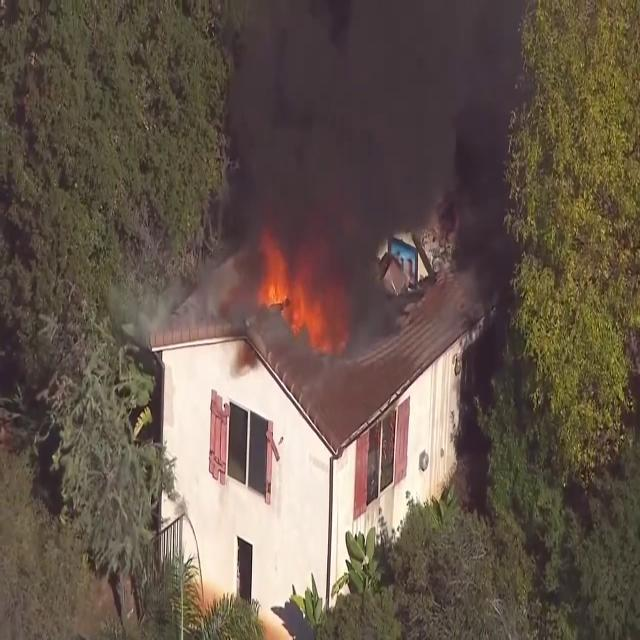Fire: (256, 232, 336, 346)
Smoke: (177, 0, 505, 356)
